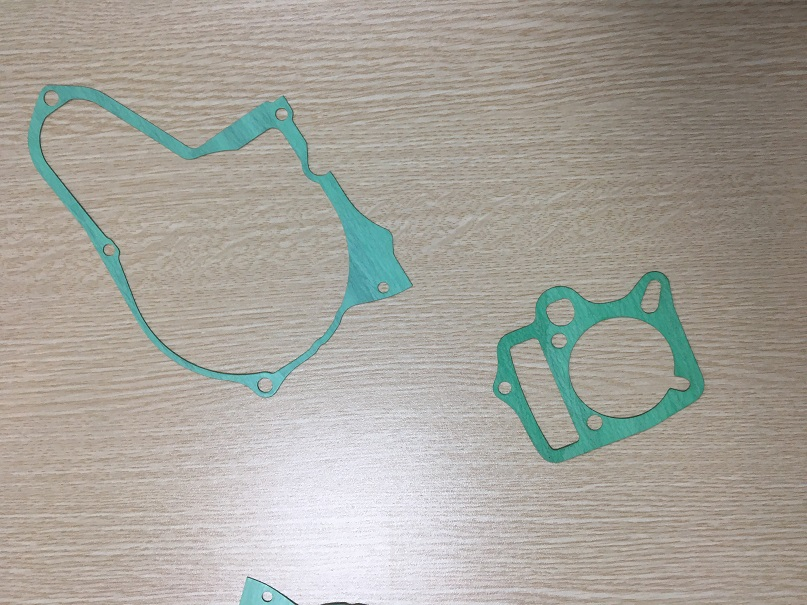type1: (10, 73, 427, 406)
type4: (488, 272, 711, 469)
